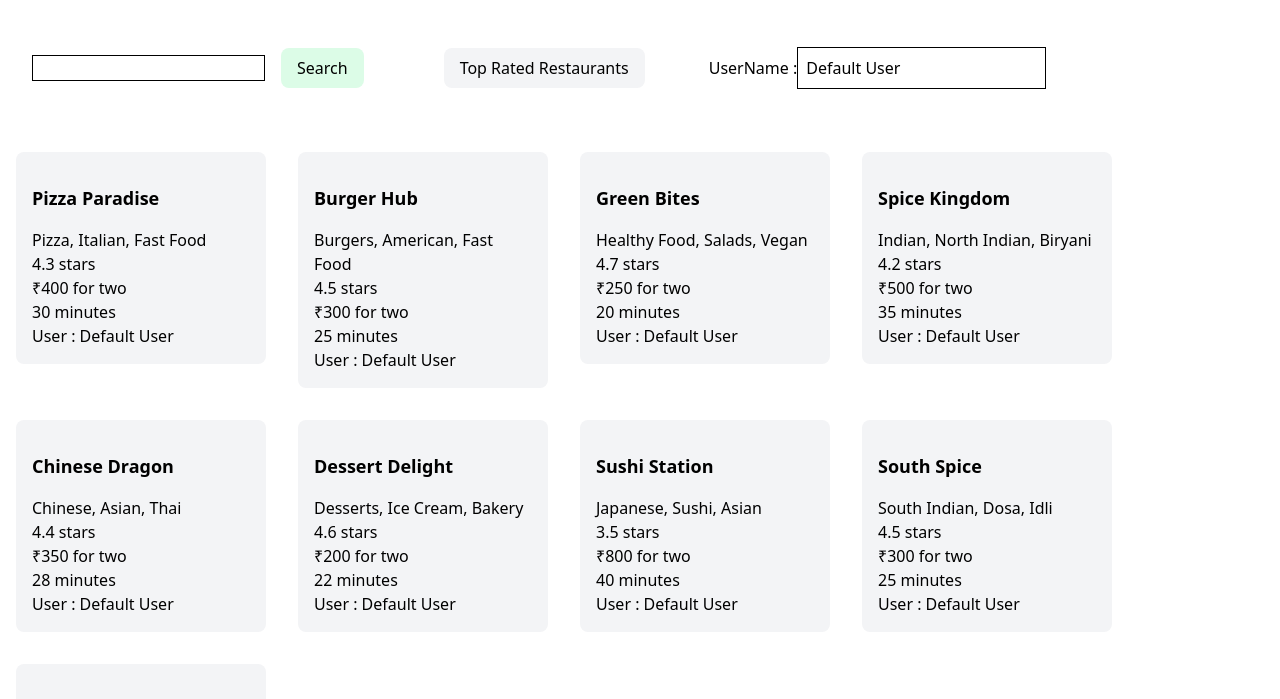
it: Integration Test for Search Component › Should load top rated restaurants when the 'Top Rated' filter is applied
This screenshot has width=1280, height=699.
Click the button "Top Rated Restaurants". click: click(544, 68)
box: [444,48,645,88]
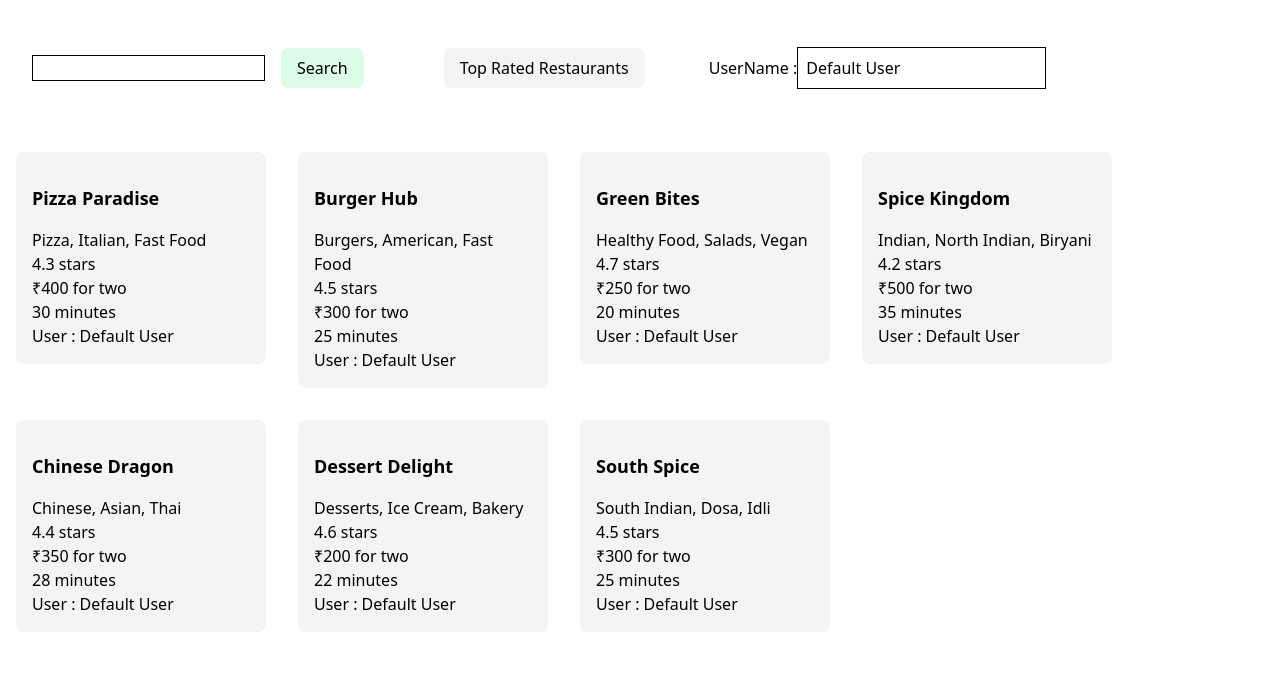
Result: the number of elements with test id "resCard" is 7
